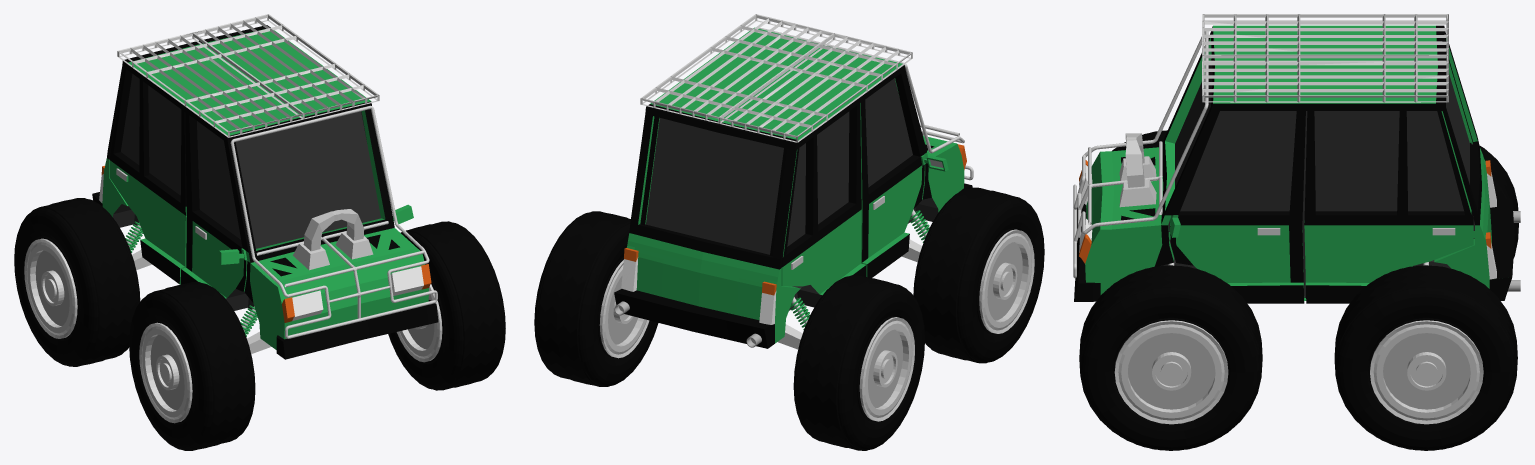
3 views of the same model, side by side, from view 1: azimuth 30°, elevation 25°; view 2: azimuth 150°, elevation 25°; view 3: azimuth 270°, elevation 25° (orthographic). The views are drawn at different scales.
Parts seen in each view (by area): view 1: BODY30, WHEEL.001, WHEEL.004, WHEEL.003, FRAME; view 2: BODY30, WHEEL.004, WHEEL.001, WHEEL.002, FRAME; view 3: BODY30, WHEEL.003, WHEEL.002, FRAME, WHEEL.004.
Boxes of the visible parts, left/top/right/bottom form: BODY30: left=92, top=14, right=438, bottom=359; WHEEL.001: left=129, top=282, right=255, bottom=450; WHEEL.004: left=14, top=198, right=140, bottom=366; WHEEL.003: left=388, top=221, right=505, bottom=390; FRAME: left=230, top=105, right=437, bottom=338; BODY30: left=614, top=14, right=972, bottom=349; WHEEL.004: left=793, top=275, right=924, bottom=450; WHEEL.001: left=913, top=187, right=1044, bottom=363; WHEEL.002: left=534, top=211, right=658, bottom=386; FRAME: left=759, top=28, right=973, bottom=180; BODY30: left=1074, top=14, right=1520, bottom=303; WHEEL.003: left=1079, top=265, right=1262, bottom=450; WHEEL.002: left=1334, top=265, right=1517, bottom=450; FRAME: left=1073, top=31, right=1208, bottom=278; WHEEL.004: left=1479, top=146, right=1518, bottom=258.
Size of the model in its own units: 168 by 151 by 193.
